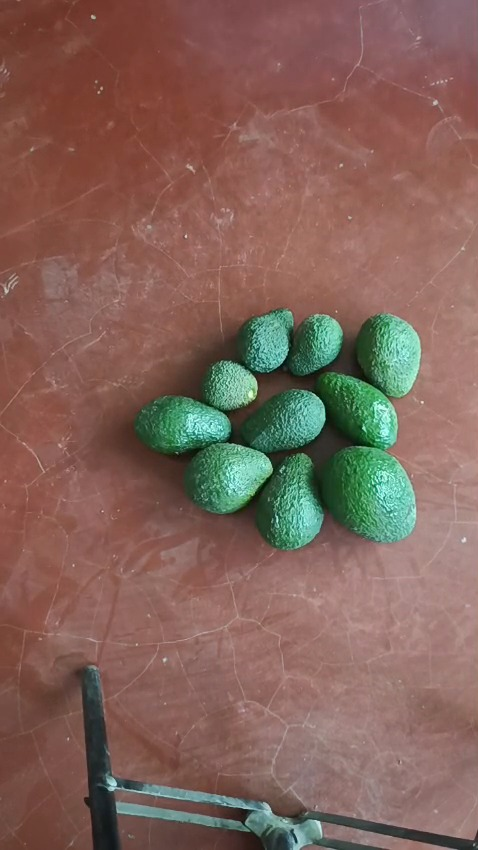Primera: (318, 444, 417, 541)
Segunda: (254, 454, 324, 548), (313, 371, 398, 448), (185, 442, 274, 514), (134, 396, 231, 455), (239, 388, 326, 453), (354, 312, 421, 396)
Tercera: (235, 308, 293, 373), (286, 313, 344, 377), (200, 358, 259, 412)
